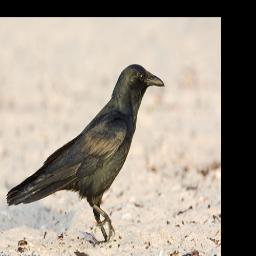Crow: (5, 62, 166, 243)
